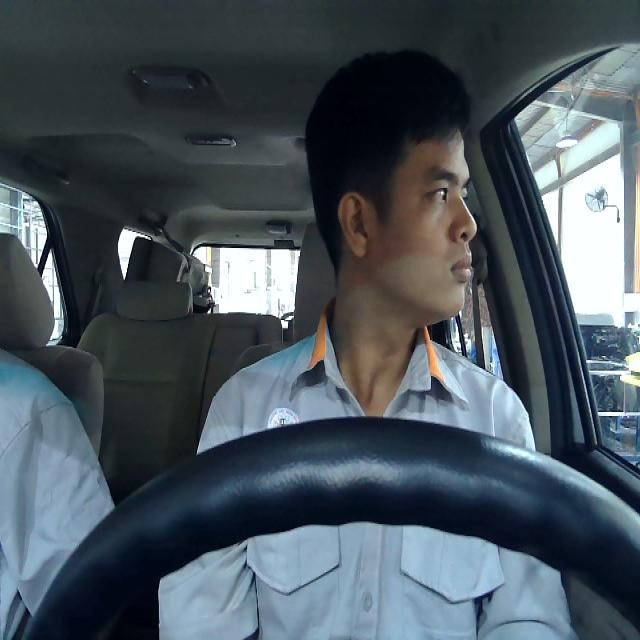seeing_right: (335, 120, 477, 320)
